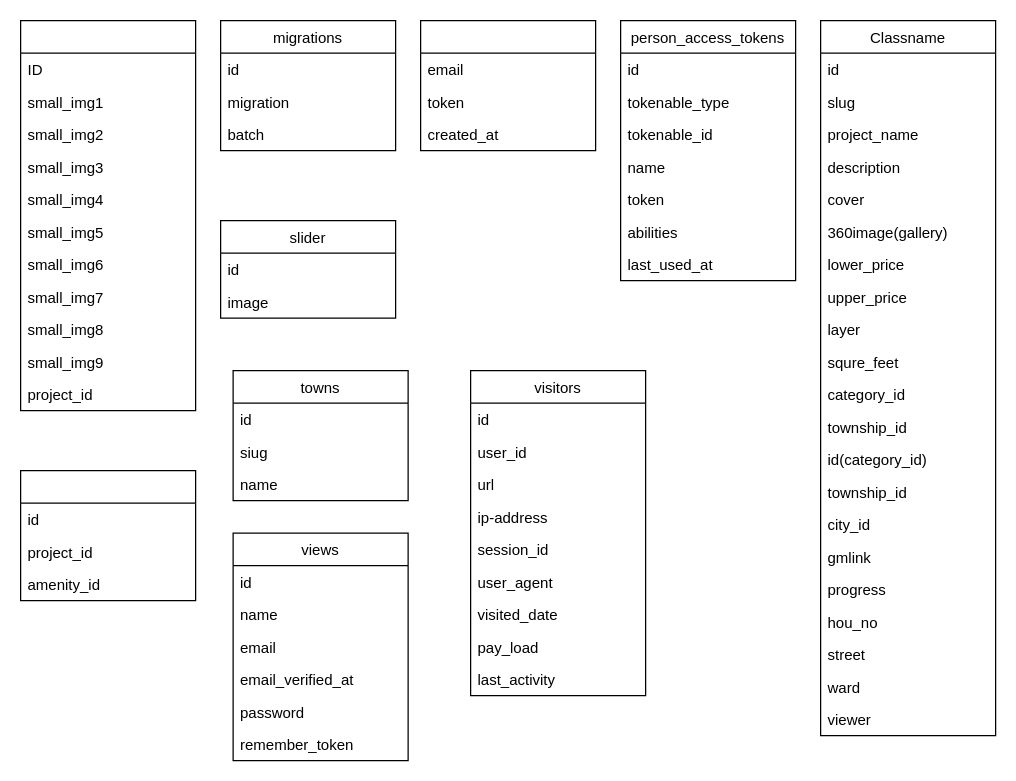
This 1016x781 diagram has some shape labels left out. Each missing label, with the box of its shape:
images: (19, 19, 196, 411)
password_rests: (419, 19, 596, 151)
project_amenity: (19, 469, 196, 601)
